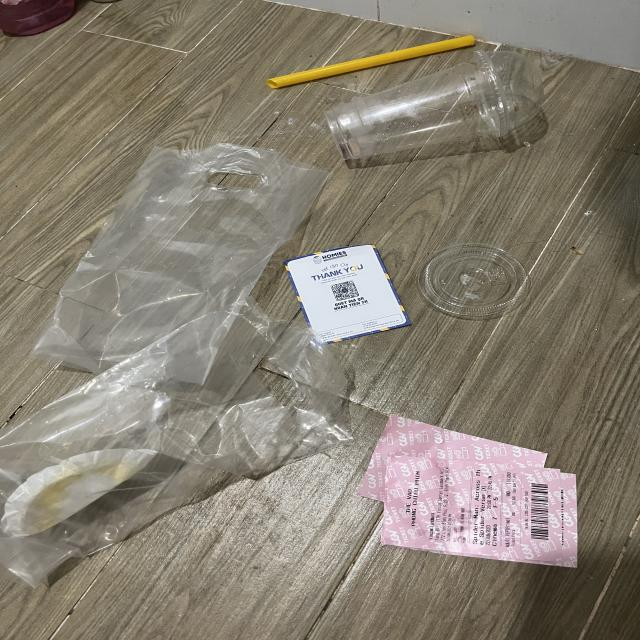bag: (32, 143, 330, 385)
drinking straw: (265, 34, 475, 89)
lid: (418, 244, 530, 319)
paper: (352, 411, 579, 570), (285, 244, 412, 346)
plastic glass: (325, 50, 544, 161)
trash bag: (0, 297, 348, 588)
